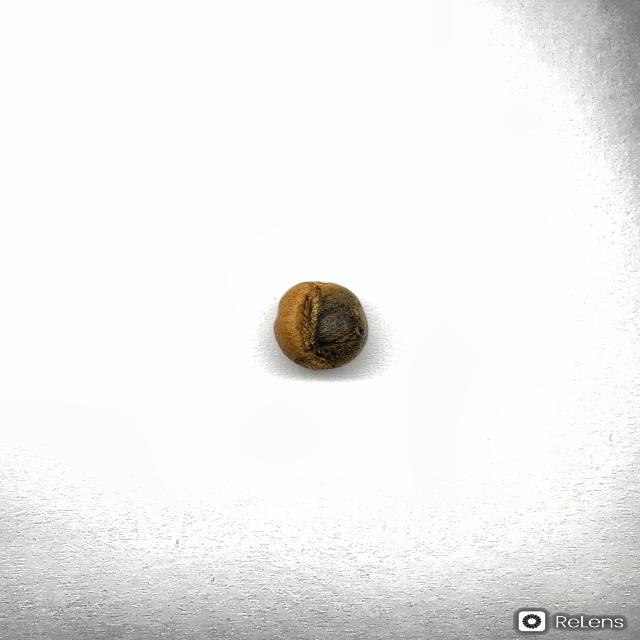Scorched: (274, 282, 369, 371)
